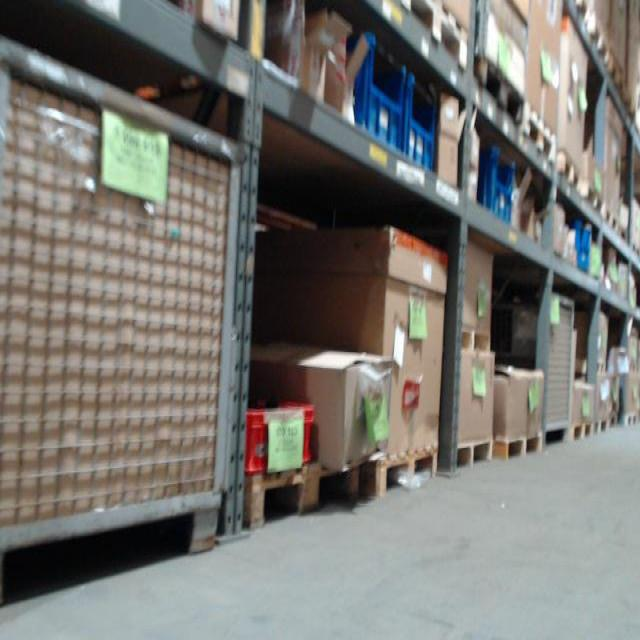pallet: (243, 451, 370, 537), (390, 1, 472, 75), (369, 441, 437, 510), (480, 57, 526, 130), (520, 99, 559, 174), (490, 427, 544, 467), (450, 435, 499, 473), (594, 34, 622, 85), (558, 147, 585, 195), (564, 7, 599, 37), (569, 417, 597, 445), (588, 183, 607, 221), (465, 326, 494, 350), (596, 412, 620, 439), (604, 205, 623, 238)
small_load_carrier: (344, 26, 404, 163), (240, 396, 320, 479), (402, 71, 442, 176), (471, 141, 519, 226), (561, 217, 592, 269)
stillage: (1, 24, 246, 578), (502, 292, 578, 449)
